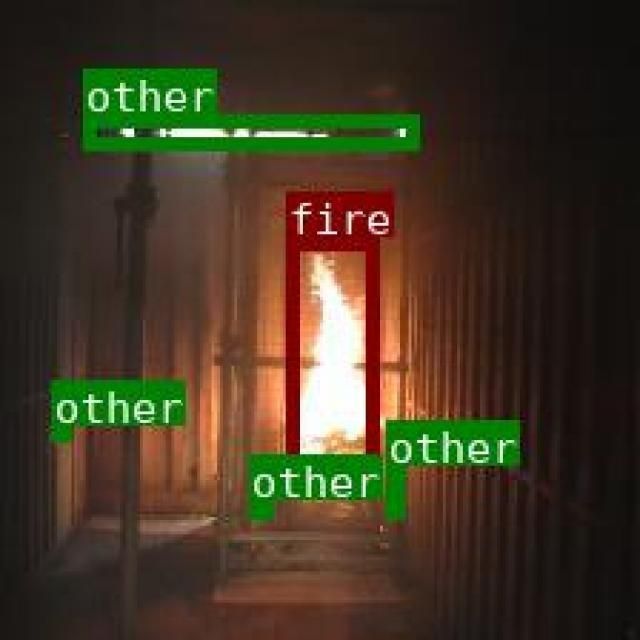fire: (283, 236, 377, 466)
